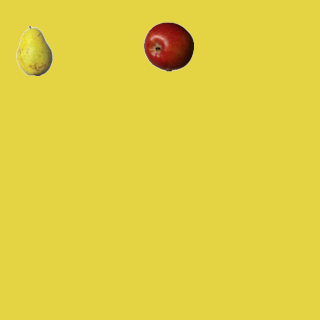Apple Braeburn: (143, 21, 193, 71)
Pear Monster: (9, 25, 59, 75)
